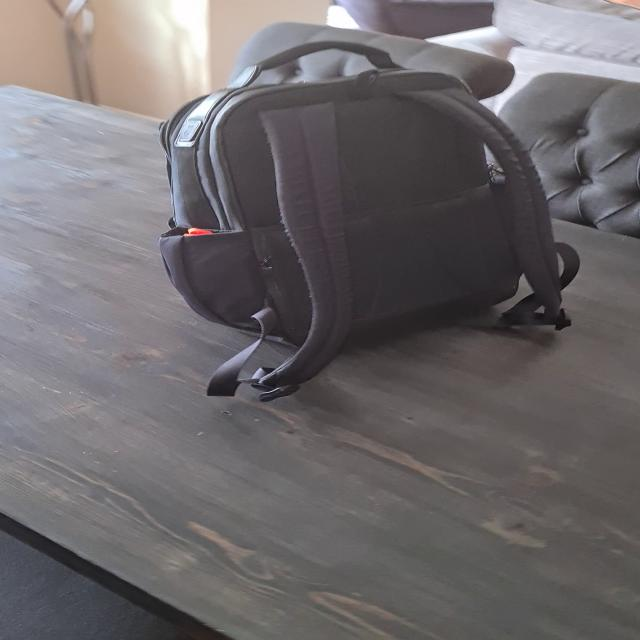backpack: (155, 47, 575, 397)
